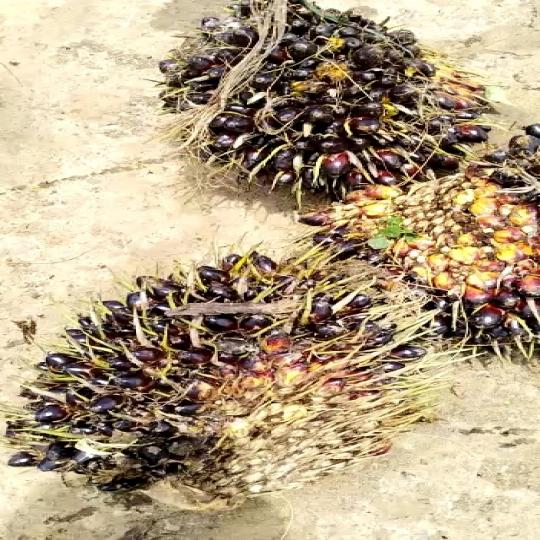mentah: (7, 240, 432, 525), (130, 0, 487, 205), (327, 126, 540, 363)
